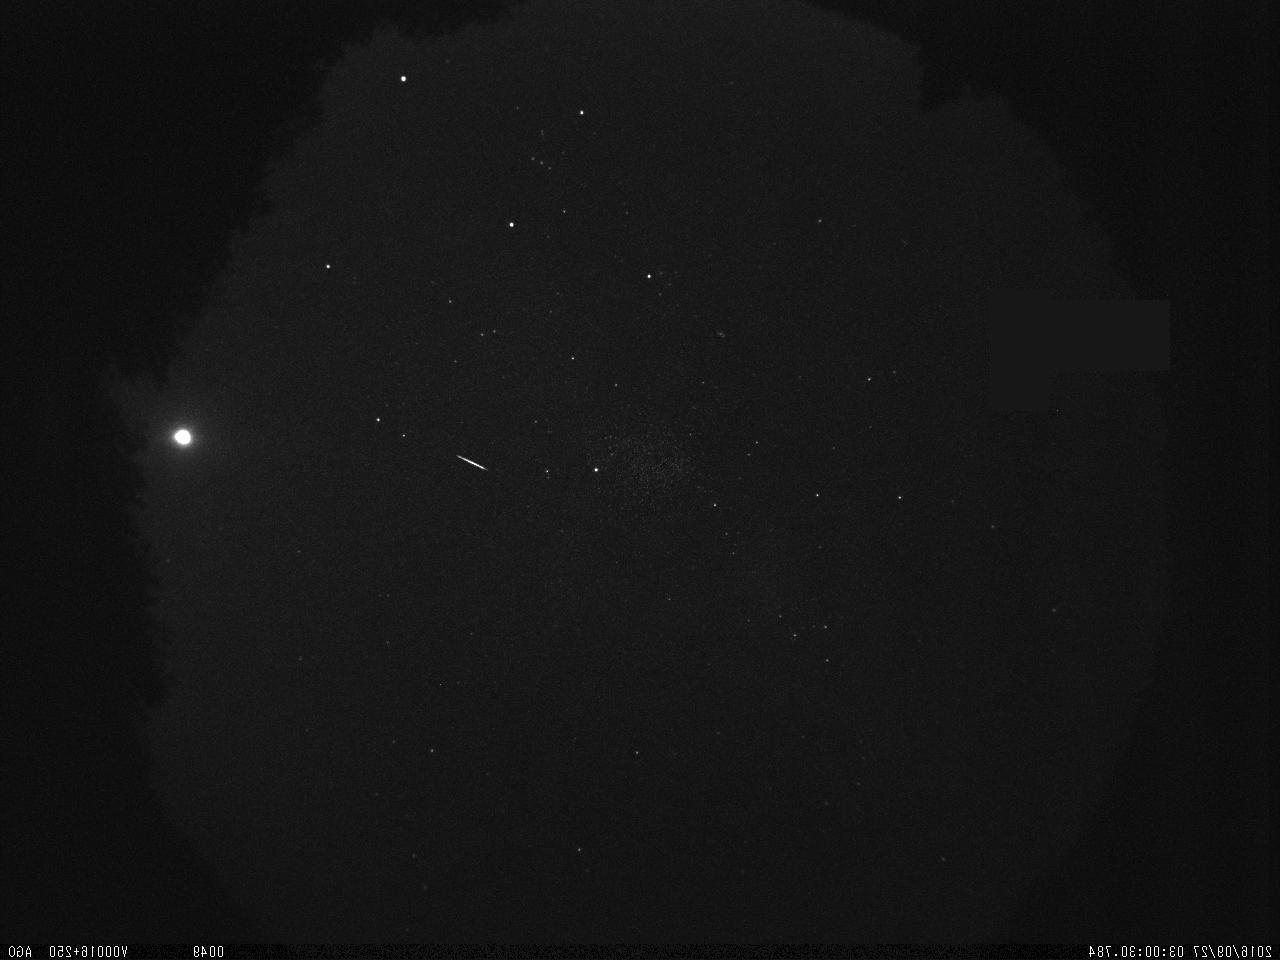meteor: (443, 438, 497, 485)
